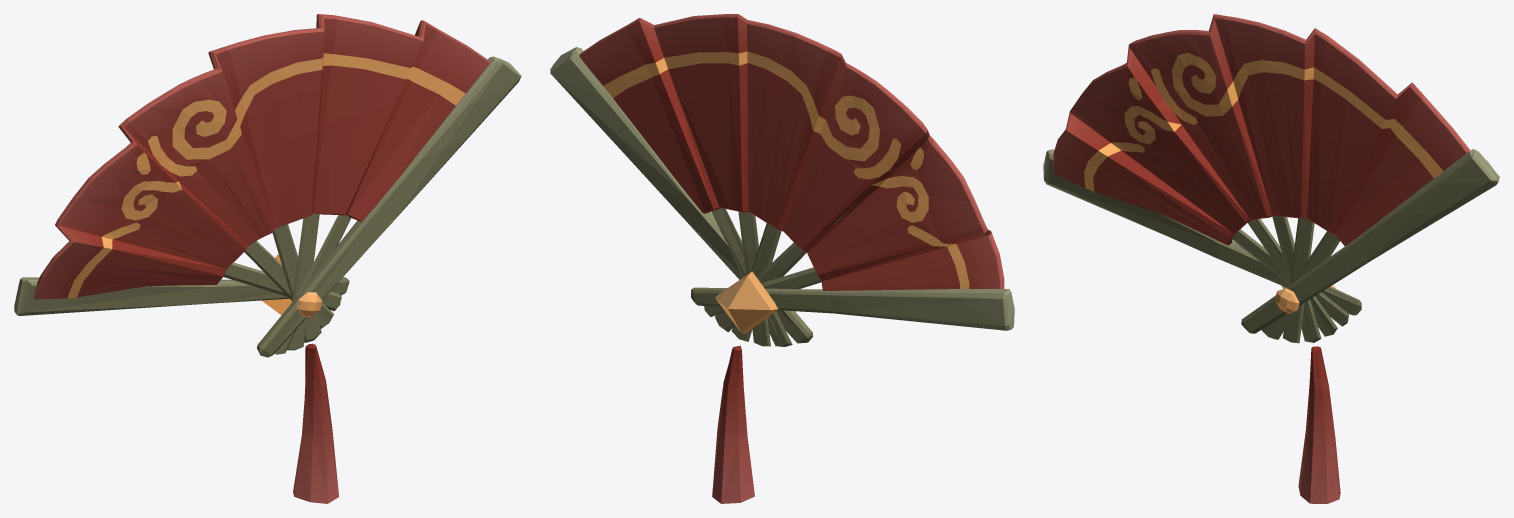
File: CharSkyKid_Prop_FortuneFan.glb
3 views of the same model, side by side, from view 1: azimuth 30°, elevation 25°; view 2: azimuth 150°, elevation 25°; view 3: azimuth 330°, elevation 25° (orthographic). The views are drawn at different scales.
Visible parts, largest first — view 1: CharSkyKid_Prop_FortuneFan; view 2: CharSkyKid_Prop_FortuneFan; view 3: CharSkyKid_Prop_FortuneFan.
Boxes of the visible parts, x1,y1,x2,y2 form: CharSkyKid_Prop_FortuneFan: [14, 14, 521, 503]; CharSkyKid_Prop_FortuneFan: [550, 14, 1014, 503]; CharSkyKid_Prop_FortuneFan: [1043, 14, 1499, 503].
Bounding box in the file's own units: 5.55 × 5.35 × 0.7489.
Materials: 1 (1 with a texture image).
